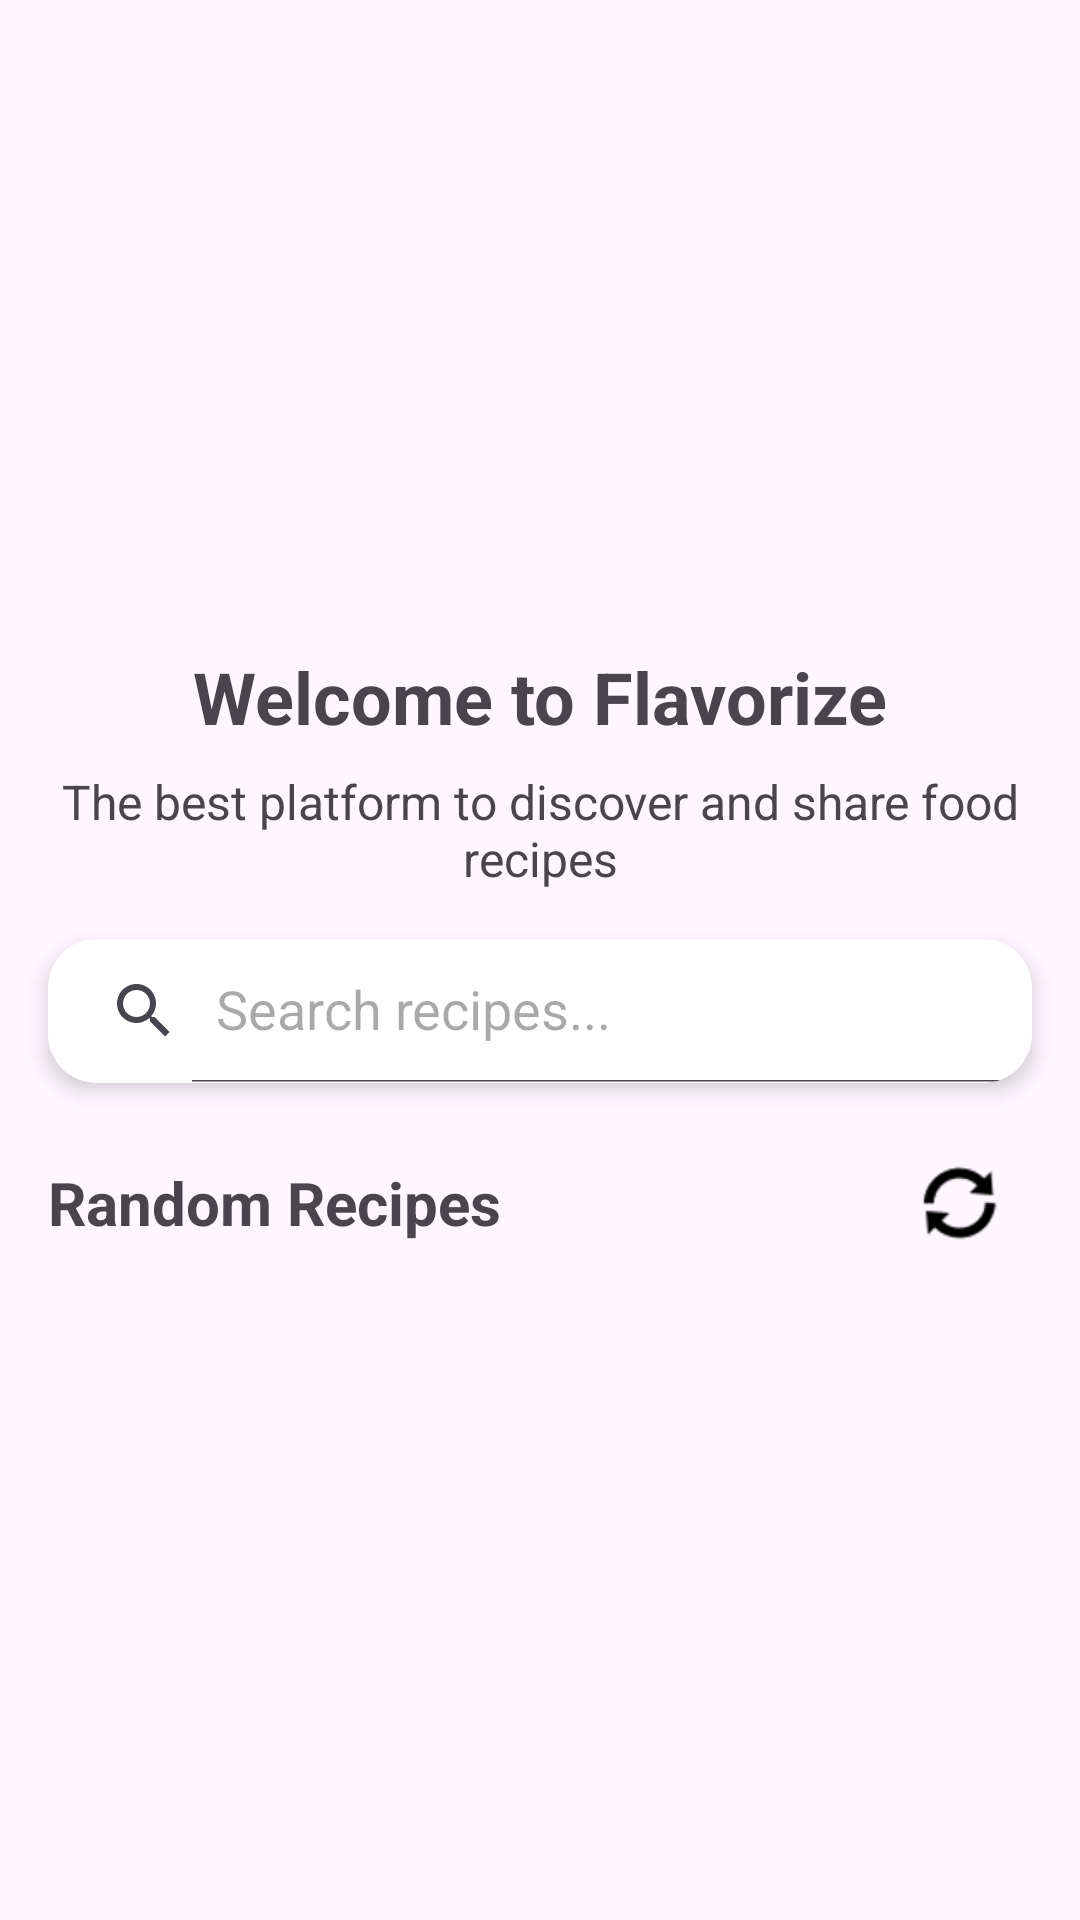

Icons on this 1080w x 1920h Android screen, each with its box as (x1, y1, x2, y2):
Refresh Recipes: (923, 1167, 997, 1239)
